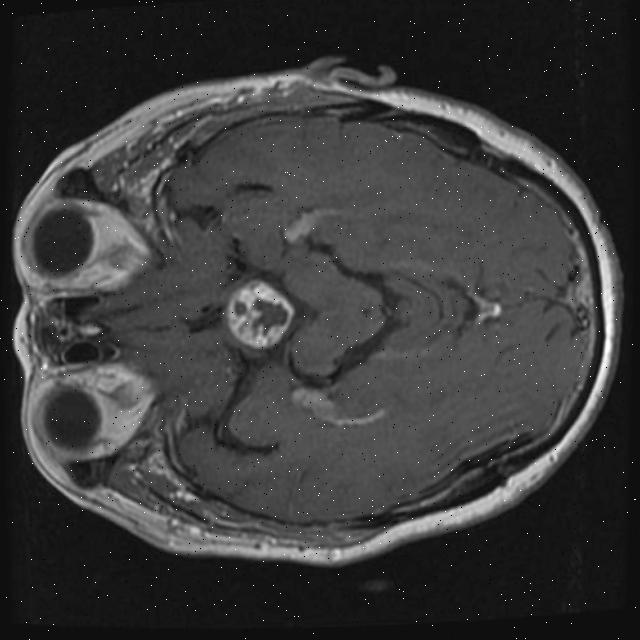Pituitary: (222, 280, 295, 350)
